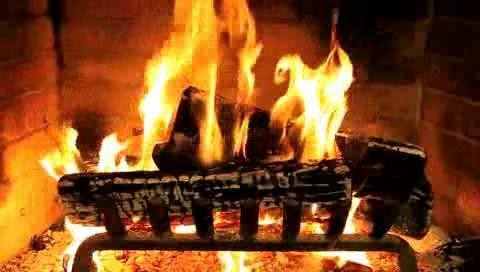fire: (101, 1, 361, 175)
